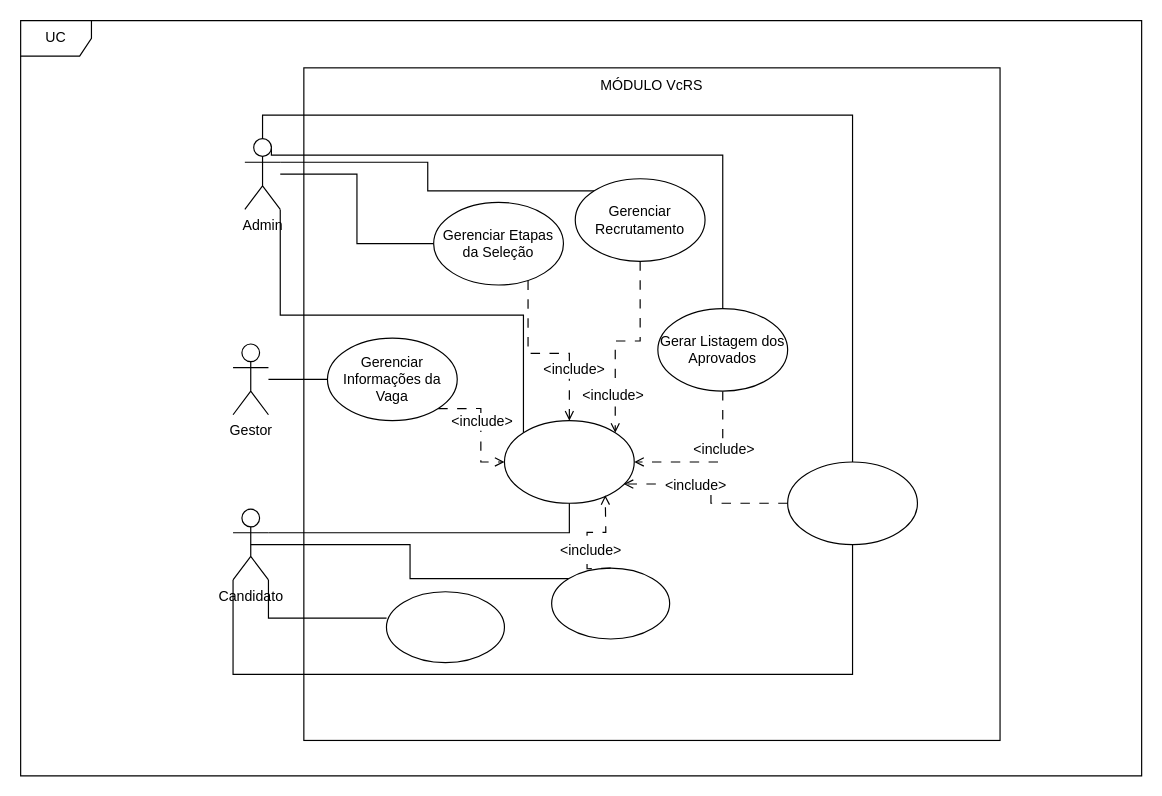
This 1162x796 diagram has some shape labels left out. Each missing label, with the centre of its shape:
Autenticar no Sistema: point (568, 461)
Criar Conta: point (444, 627)
Manter Comunicação com Candidatos: point (851, 503)
Realizar Candidaturas: point (610, 603)
